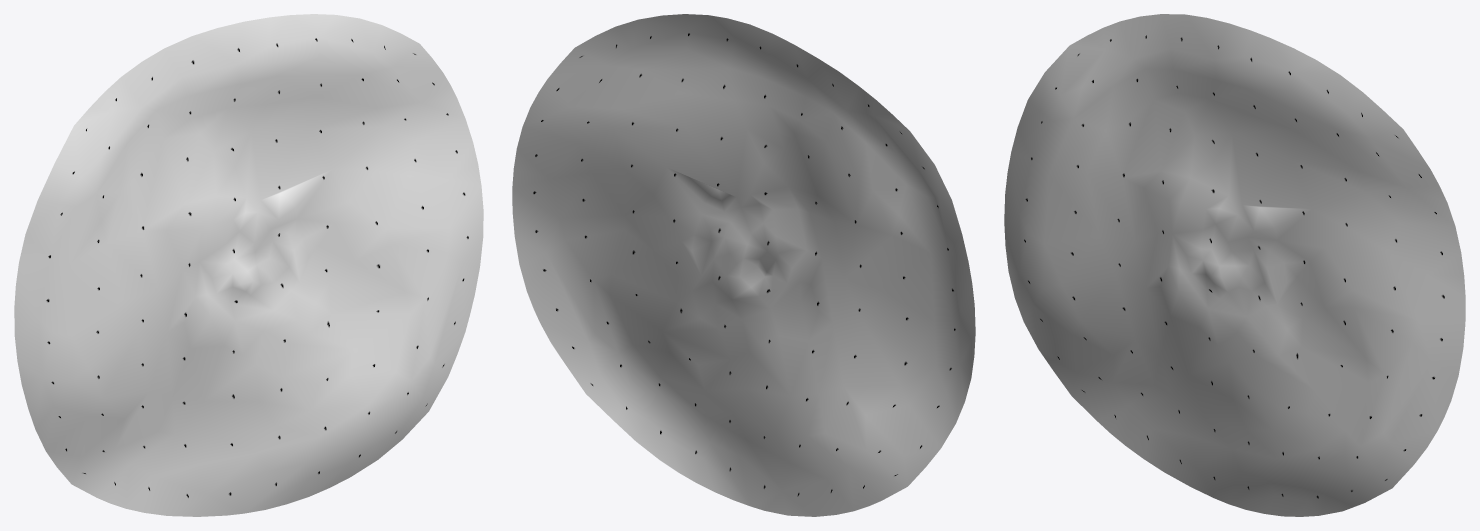
The picture shows the model from 3 angles, left to right: view 1: azimuth 30°, elevation 25°; view 2: azimuth 150°, elevation 25°; view 3: azimuth 330°, elevation 25°; orthographic projection. The views are drawn at different scales.
Parts seen in each view (by area): view 1: no renderMesh.001; view 2: no renderMesh.001; view 3: no renderMesh.001.
Boxes of the visible parts, box(x1,y1,x2,y2) form: no renderMesh.001: box(14, 14, 483, 516); no renderMesh.001: box(512, 14, 975, 516); no renderMesh.001: box(1004, 14, 1465, 516).
Size of what is drawn, in the model's own units: 91.9 by 91.76 by 7.97.
Materials: 1 (1 with a texture image).
